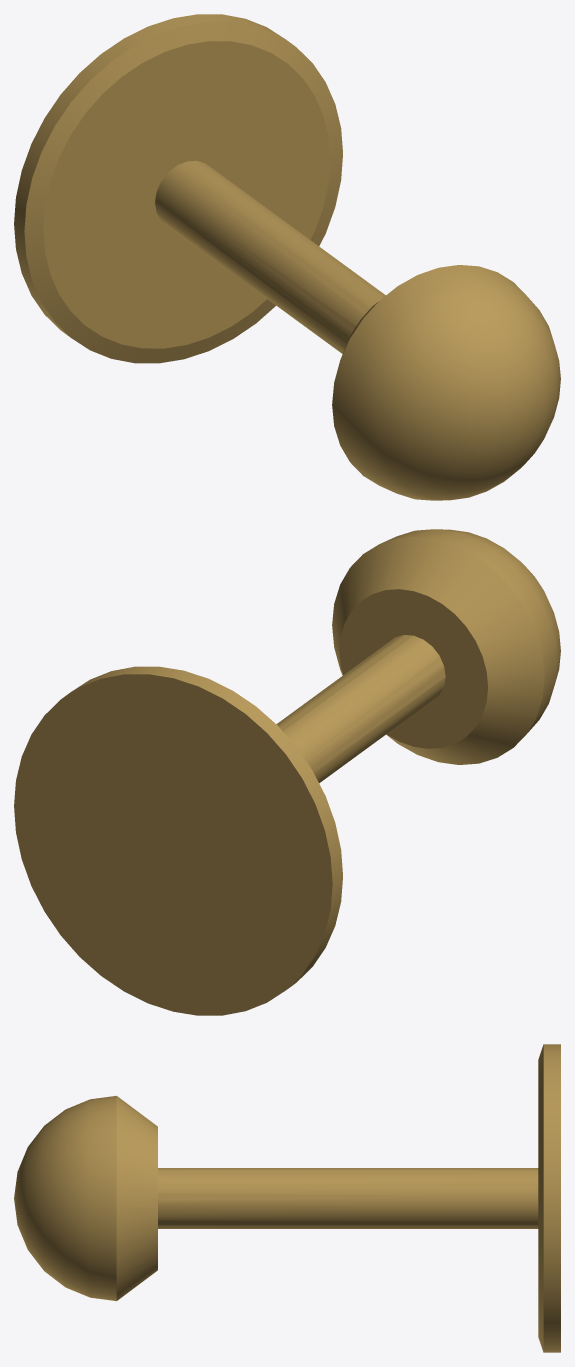
3 renders of one model, top to bottom at view 1: azimuth 30°, elevation 25°; view 2: azimuth 150°, elevation 25°; view 3: azimuth 270°, elevation 25°, orthographic. The views are drawn at different scales.
Visible parts, largest first — view 1: iron_bellpull; view 2: iron_bellpull; view 3: iron_bellpull.
Boxes of the visible parts, x1,y1,x2,y2 form: iron_bellpull: (14, 14, 560, 500); iron_bellpull: (14, 529, 560, 1015); iron_bellpull: (14, 1044, 560, 1352).
Size of the model in its own units: 0.06 by 0.06 by 0.1064.
